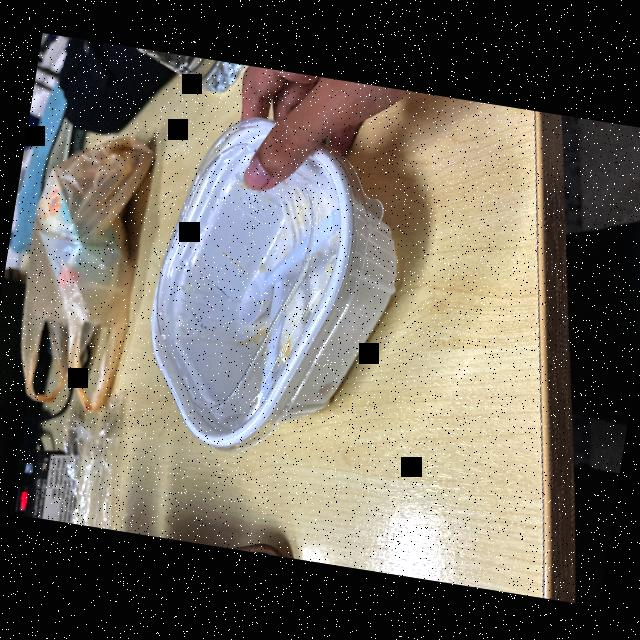plastic_box: (114, 98, 430, 480)
